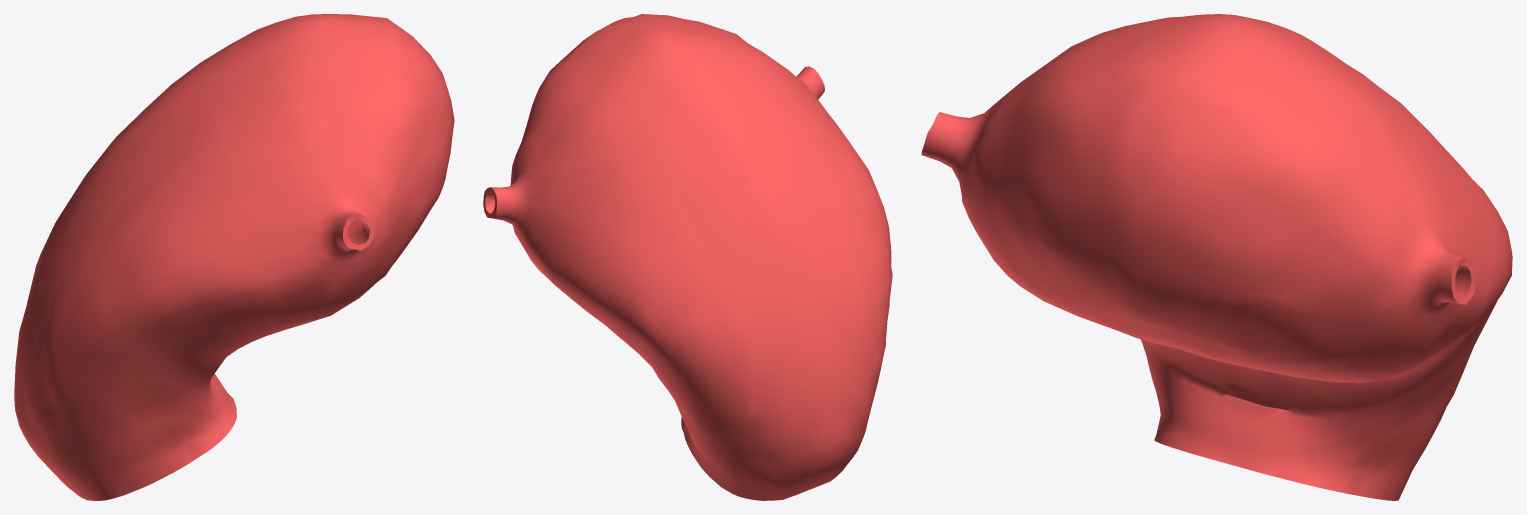
File: colo-utero.glb
The picture shows the model from 3 angles, left to right: view 1: azimuth 30°, elevation 25°; view 2: azimuth 150°, elevation 25°; view 3: azimuth 270°, elevation 25°; orthographic projection. The views are drawn at different scales.
Parts seen in each view (by area): view 1: Uterus_with_cervix_whole_04_16; view 2: Uterus_with_cervix_whole_04_16; view 3: Uterus_with_cervix_whole_04_16.
Boxes of the visible parts, x1,y1,x2,y2 form: Uterus_with_cervix_whole_04_16: (14,14,454,500); Uterus_with_cervix_whole_04_16: (483,14,892,500); Uterus_with_cervix_whole_04_16: (921,14,1512,500).
Bounding box in the file's own units: 0.0729 × 0.0816 × 0.0749.
